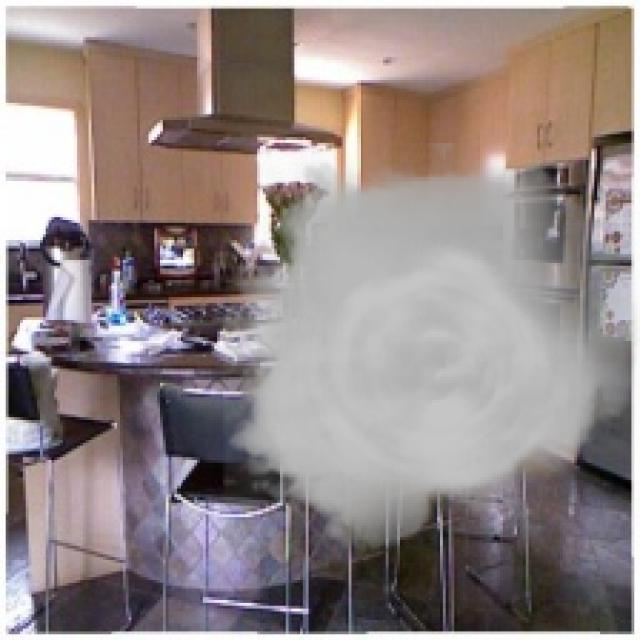Smoke: (222, 143, 638, 566)
